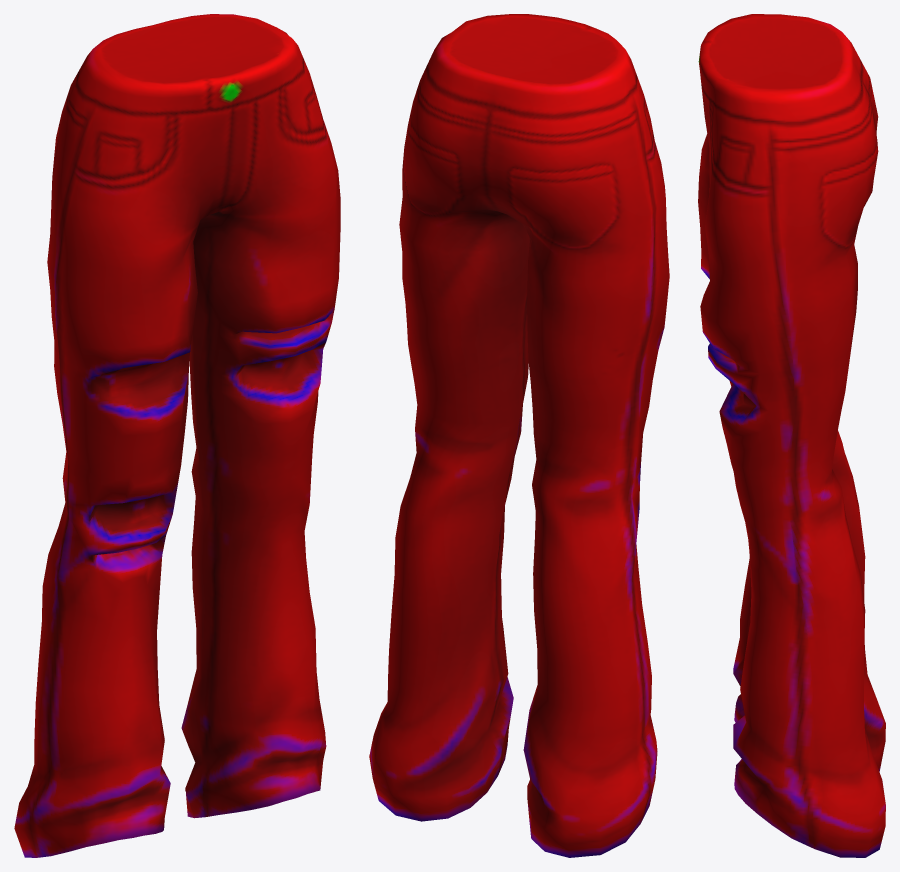
File: Outfit_Bottom_DistressJeans.obj
3 views of the same model, side by side, from view 1: azimuth 30°, elevation 25°; view 2: azimuth 150°, elevation 25°; view 3: azimuth 270°, elevation 25° (orthographic). The views are drawn at different scales.
Visible parts, largest first — view 1: Outfit_Bottom_DistressJeans_0; view 2: Outfit_Bottom_DistressJeans_0; view 3: Outfit_Bottom_DistressJeans_0.
Part boxes in pixels (x1,y1,x2,y2): Outfit_Bottom_DistressJeans_0: (14, 14, 340, 857); Outfit_Bottom_DistressJeans_0: (369, 14, 669, 857); Outfit_Bottom_DistressJeans_0: (698, 14, 885, 857).
Bounding box in the file's own units: 0.4016 × 1.08 × 0.2426.
Materials: 1 (1 with a texture image).
